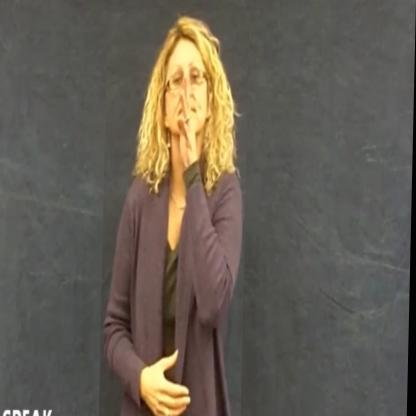Talk: (101, 6, 250, 416)
